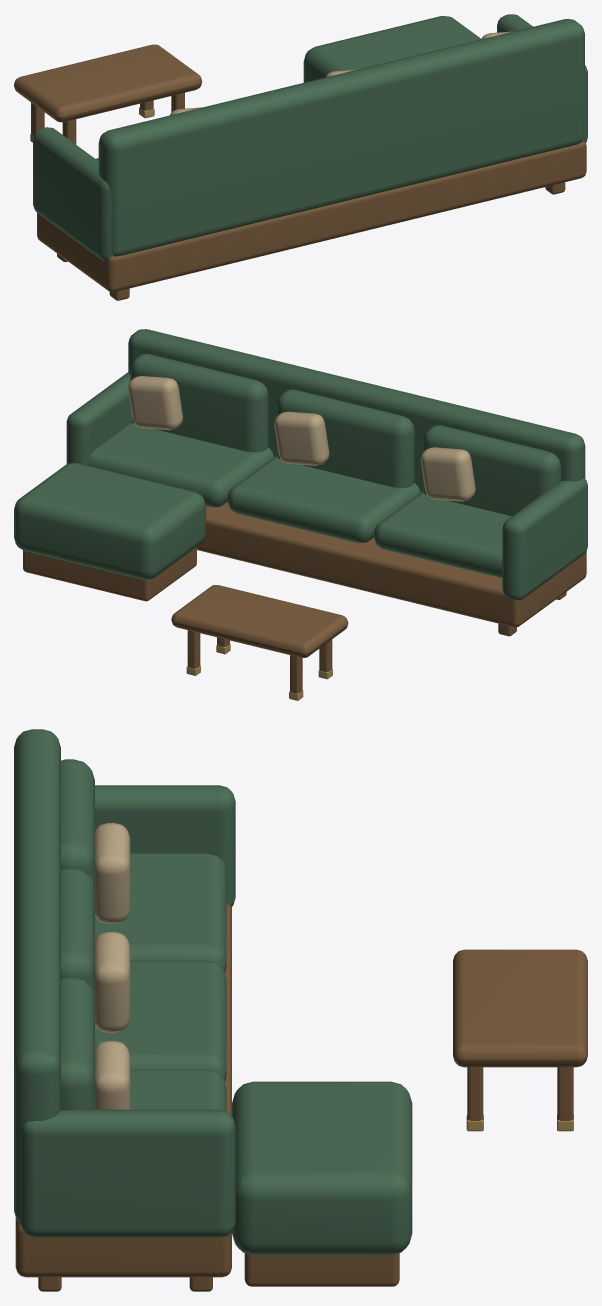
The model's file is reading_nook.glb.
3 views of the same model, one above another, from view 1: azimuth 30°, elevation 25°; view 2: azimuth 150°, elevation 25°; view 3: azimuth 270°, elevation 25° (orthographic). The views are drawn at different scales.
Visible parts, largest first — view 1: Reading nook Forest velvet, Reading nook Oiled walnut; view 2: Reading nook Forest velvet, Reading nook Oiled walnut, Reading nook Warm linen; view 3: Reading nook Forest velvet, Reading nook Oiled walnut, Reading nook Warm linen.
Part boxes in pixels (box(x1,y1,x2,y2)): Reading nook Forest velvet: box(33, 14, 587, 261); Reading nook Oiled walnut: box(14, 44, 586, 300); Reading nook Forest velvet: box(14, 329, 587, 600); Reading nook Oiled walnut: box(23, 502, 586, 693); Reading nook Warm linen: box(128, 376, 475, 501); Reading nook Forest velvet: box(14, 729, 412, 1255); Reading nook Oiled walnut: box(15, 904, 587, 1291); Reading nook Warm linen: box(94, 823, 130, 1109).
Bounding box in the file's own units: 4.48 × 1.5 × 3.19.
